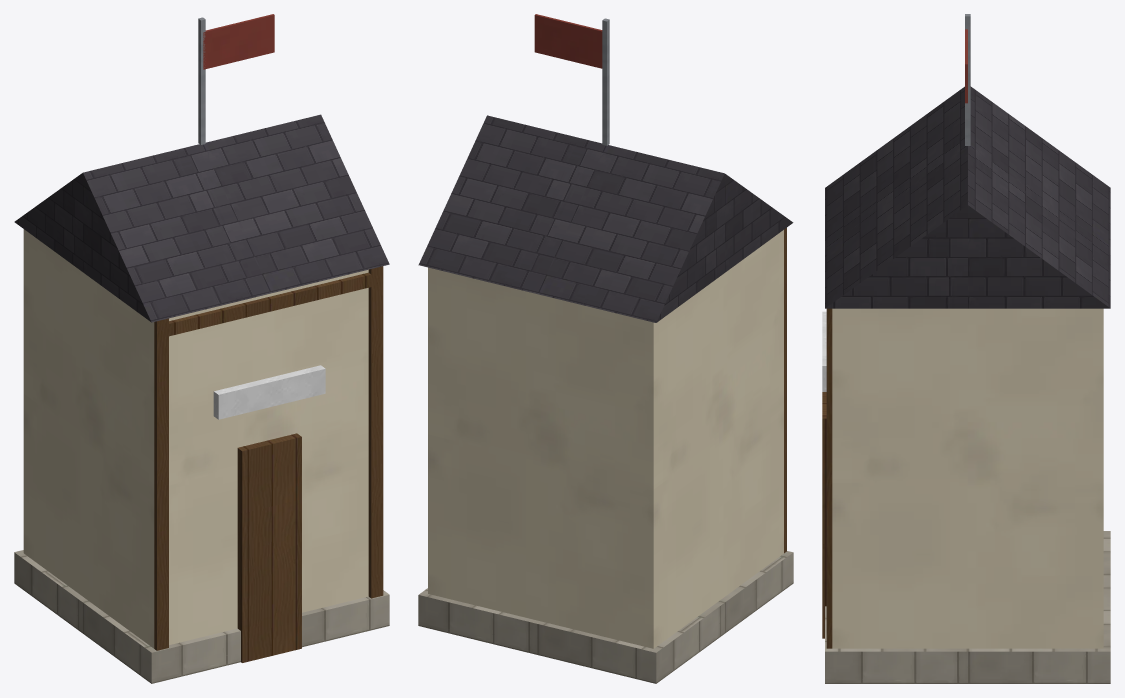
The model's file is category.governance.t2.glb.
The picture shows the model from 3 angles, left to right: view 1: azimuth 30°, elevation 25°; view 2: azimuth 150°, elevation 25°; view 3: azimuth 270°, elevation 25°; orthographic projection. The views are drawn at different scales.
Visible parts, largest first — view 1: building.category.governance.t2; view 2: building.category.governance.t2; view 3: building.category.governance.t2.
Boxes of the visible parts, <box> form: building.category.governance.t2: <box>14,14,389,683</box>; building.category.governance.t2: <box>418,14,793,683</box>; building.category.governance.t2: <box>822,14,1110,683</box>.
Bounding box in the file's own units: 2 × 4.7 × 2.02.
Materials: 7 (7 with a texture image).
